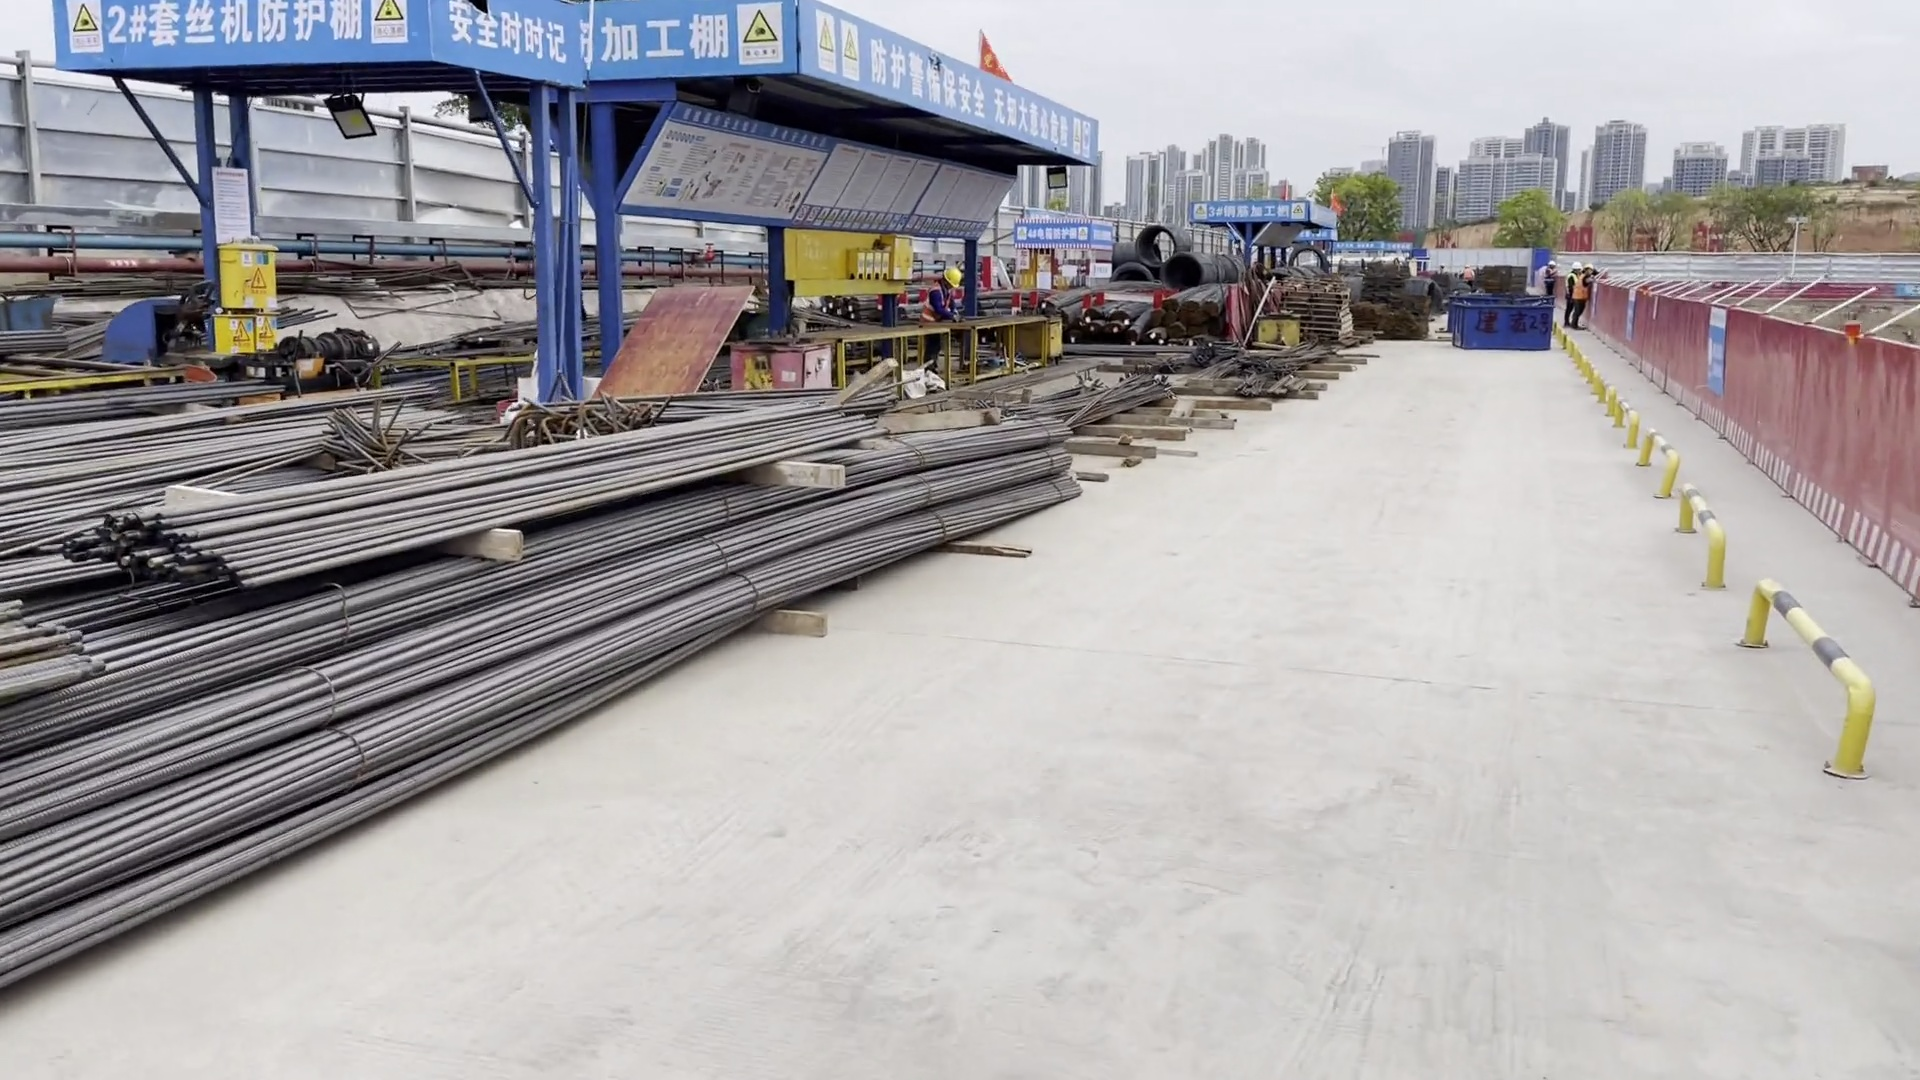ebox: (222, 237, 284, 371), (888, 227, 922, 287)
fence: (1591, 278, 1920, 603)
helmet: (942, 268, 960, 288), (1572, 264, 1581, 270), (1583, 264, 1592, 270), (1549, 261, 1556, 267), (1465, 265, 1471, 269), (1441, 265, 1446, 269)
hopper: (1434, 291, 1558, 352)
person: (919, 267, 964, 327), (1571, 264, 1596, 330), (1561, 263, 1581, 308), (1545, 259, 1557, 295), (1461, 265, 1475, 284), (1440, 264, 1450, 275)
rebar: (1, 411, 1059, 997), (69, 408, 867, 641), (1038, 367, 1174, 439), (1, 308, 80, 376), (1045, 274, 1162, 308), (1107, 300, 1145, 324), (1081, 298, 1119, 321), (1059, 299, 1089, 325), (1082, 318, 1107, 340), (1181, 296, 1203, 320), (1105, 320, 1130, 338), (1159, 295, 1182, 312), (1202, 299, 1221, 316), (1128, 324, 1144, 340)
slogan: (866, 39, 1092, 158), (428, 1, 565, 63)
vest: (922, 286, 950, 322), (1574, 274, 1589, 298), (1564, 273, 1577, 297), (1544, 267, 1557, 284), (1462, 270, 1474, 281)
